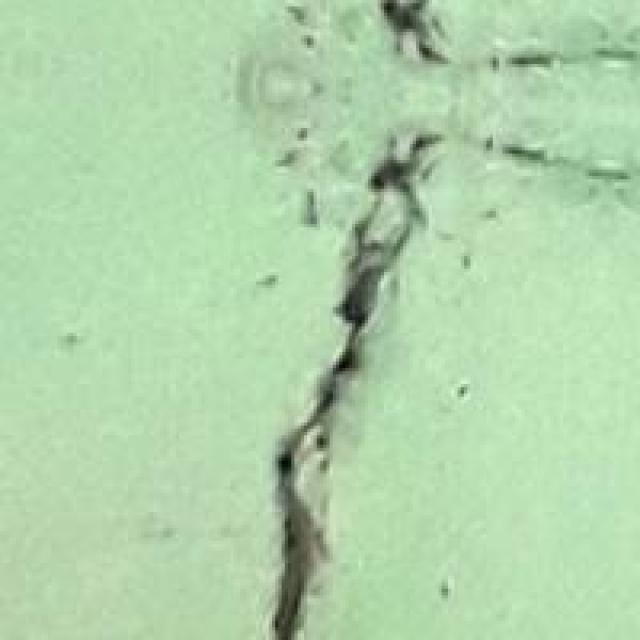Crack: (230, 6, 572, 636)
